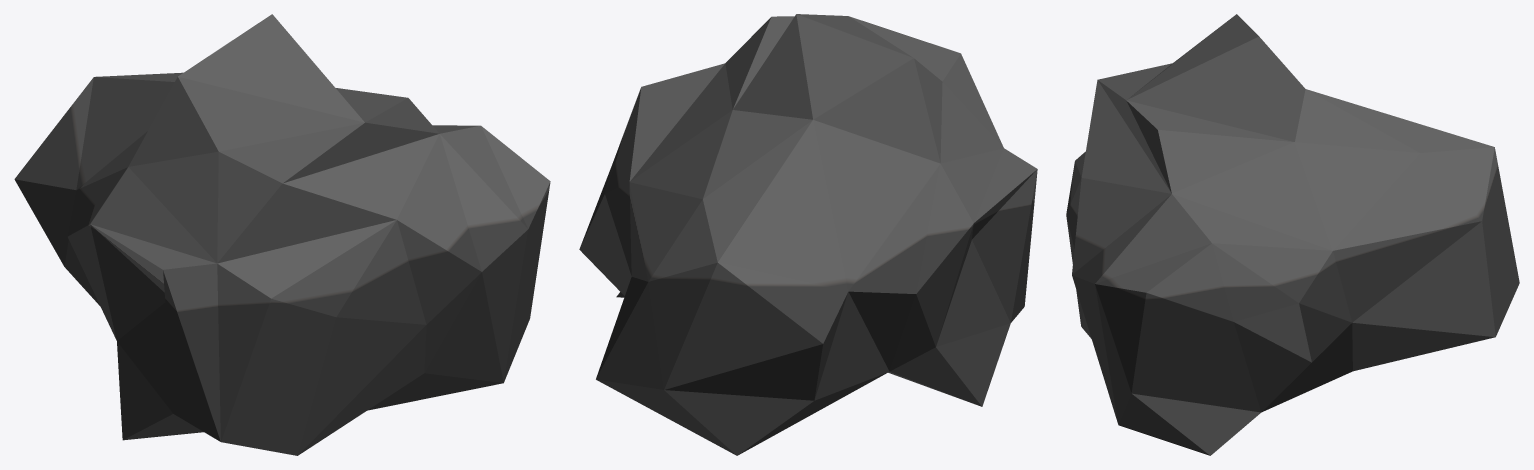
The model's file is rock03.fbx.
3 views of the same model, side by side, from view 1: azimuth 30°, elevation 25°; view 2: azimuth 150°, elevation 25°; view 3: azimuth 270°, elevation 25° (orthographic). The views are drawn at different scales.
Visible parts, largest first — view 1: ROCK3; view 2: ROCK3; view 3: ROCK3.
Part boxes in pixels (x1,y1,x2,y2): ROCK3: [14, 14, 550, 455]; ROCK3: [579, 14, 1037, 455]; ROCK3: [1066, 14, 1519, 455].
Bounding box in the file's own units: 348 × 314 × 376.
1 material, 1 textured.
